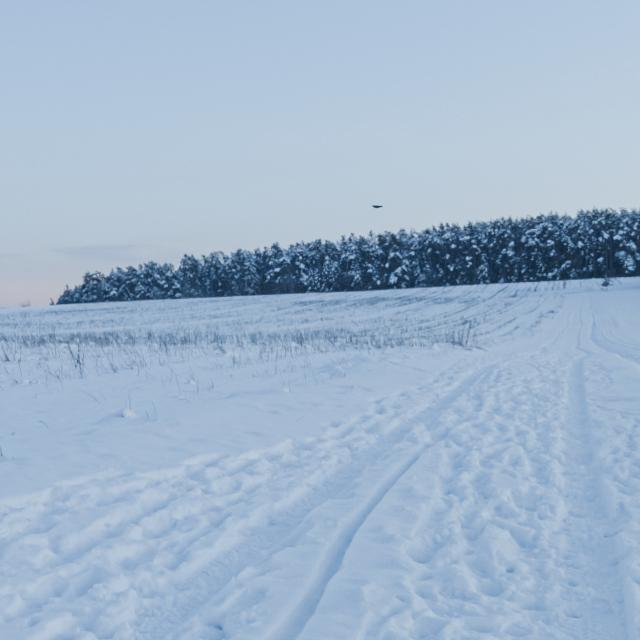Airaplan: (372, 204, 383, 209)
